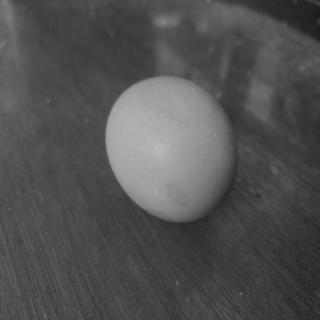Telur: (103, 73, 243, 229)
